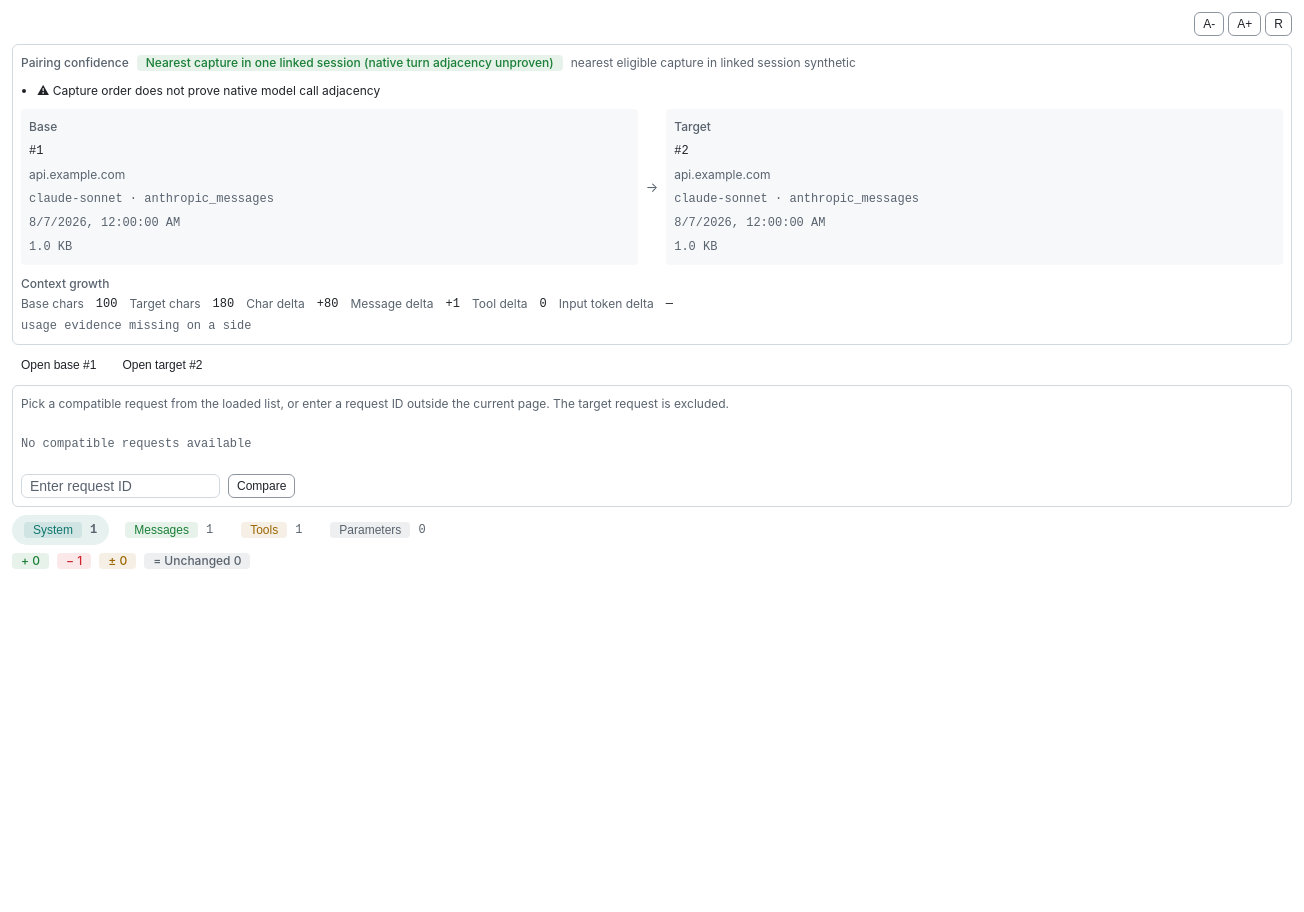
RequestContextDiffPanel §7 › 键盘：Enter 提交 ID、类别 tab 可点、行可展开/折叠（aria-expanded）
Expected: the number of elements with class "context-category-count" is 4, [90,520,97,540]; [206,520,213,540]; [295,520,302,540]; [418,520,426,540]
What coordinates should you click on to do the following:
click the tab "Messages 1"
I would click on:
 (169, 530)
Its box is [113,515,225,544].
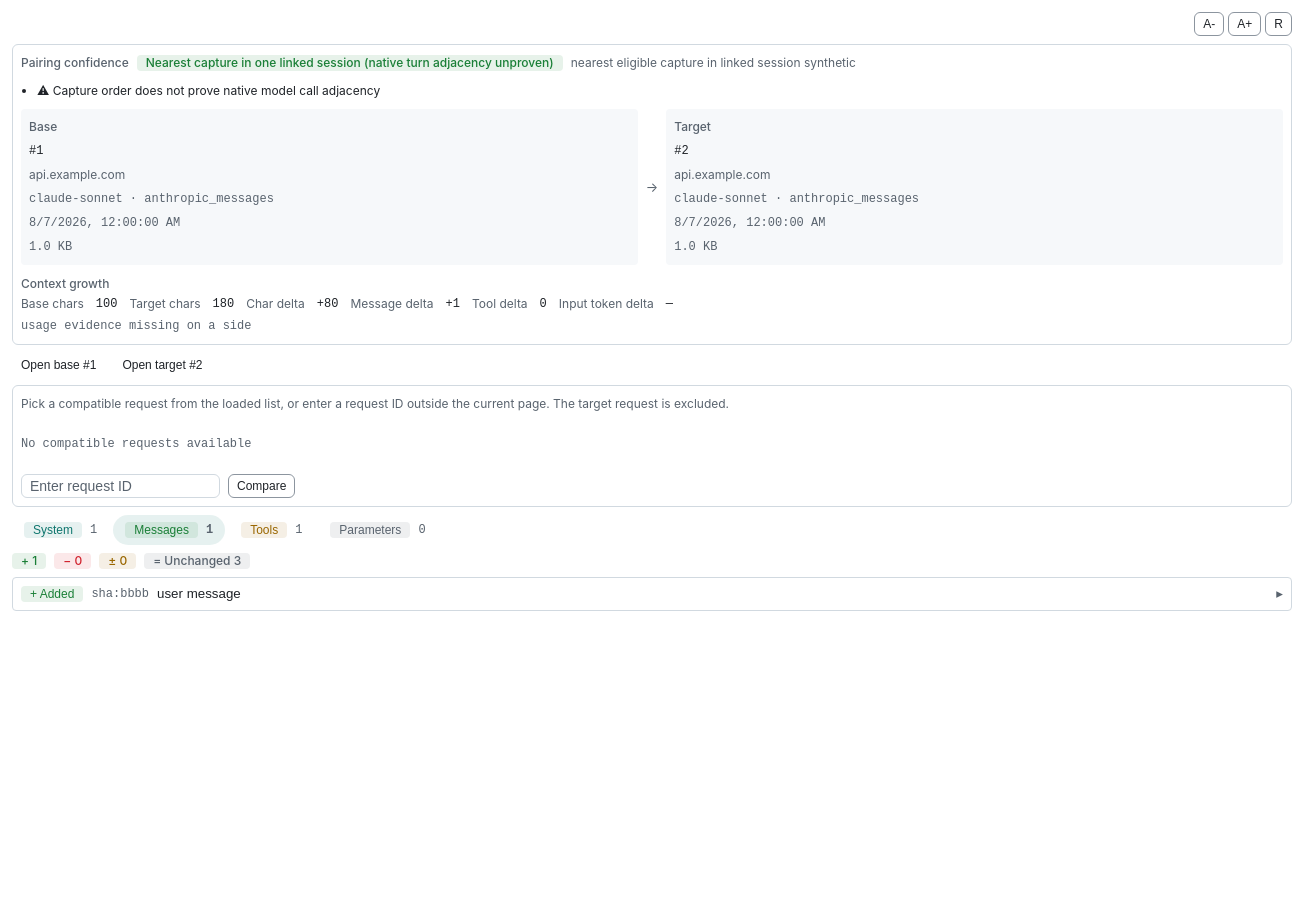
What coordinates should you click on to do the following:
click the button with class "context-change-row-head"
I would click on:
 (52, 594)
Its box is [13,578,1291,610].
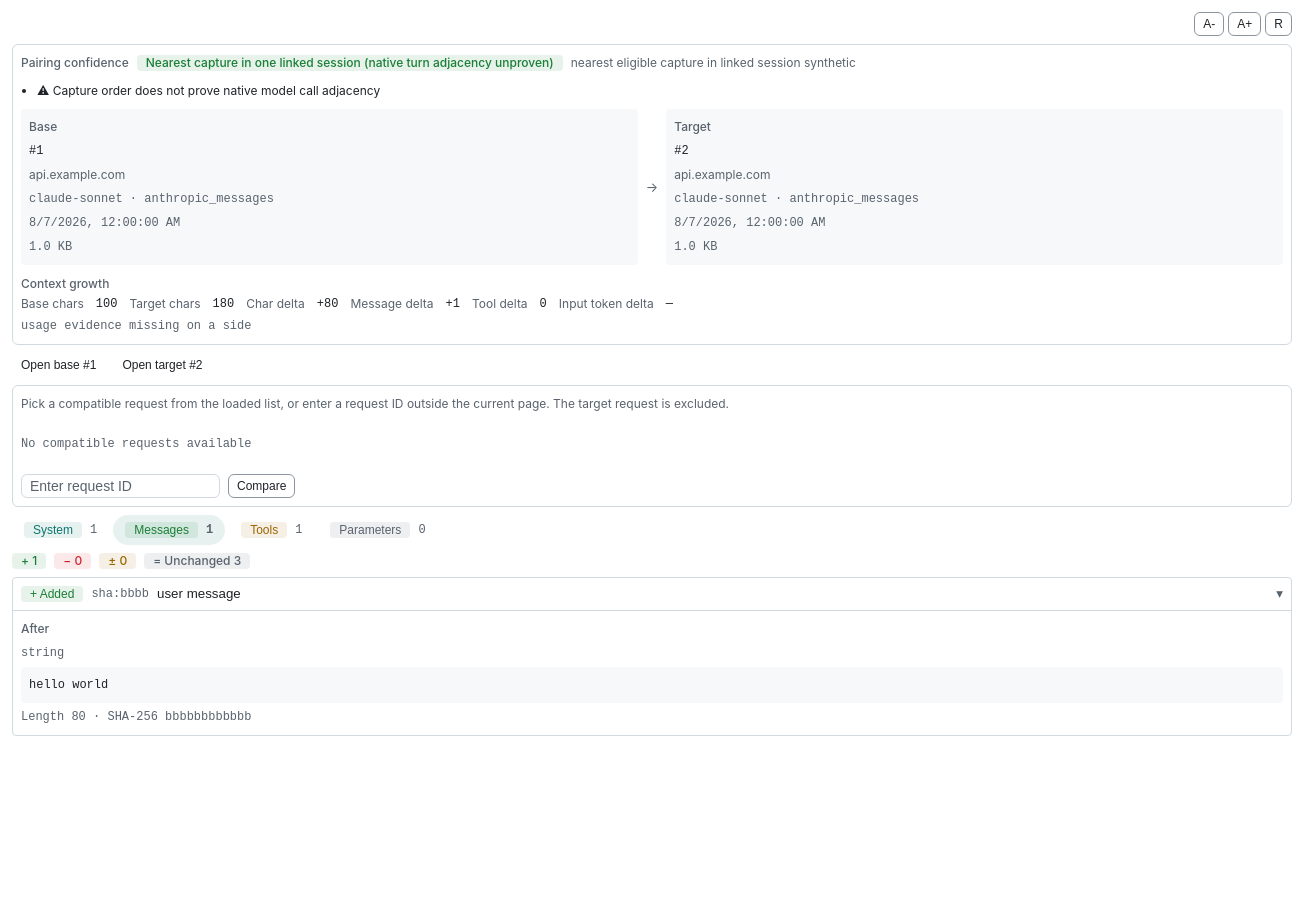
Result: the button with class "context-change-row-head" is expanded at [13,578,1291,610]
